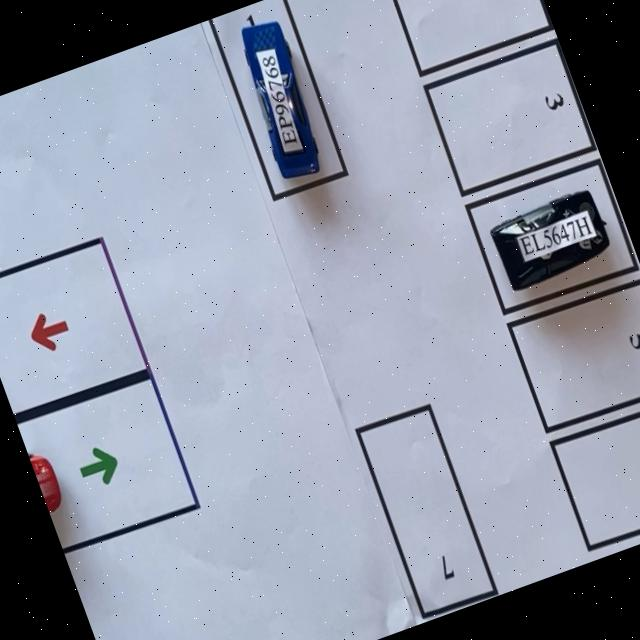car: (243, 17, 320, 178), (491, 191, 610, 291), (29, 455, 62, 513)
